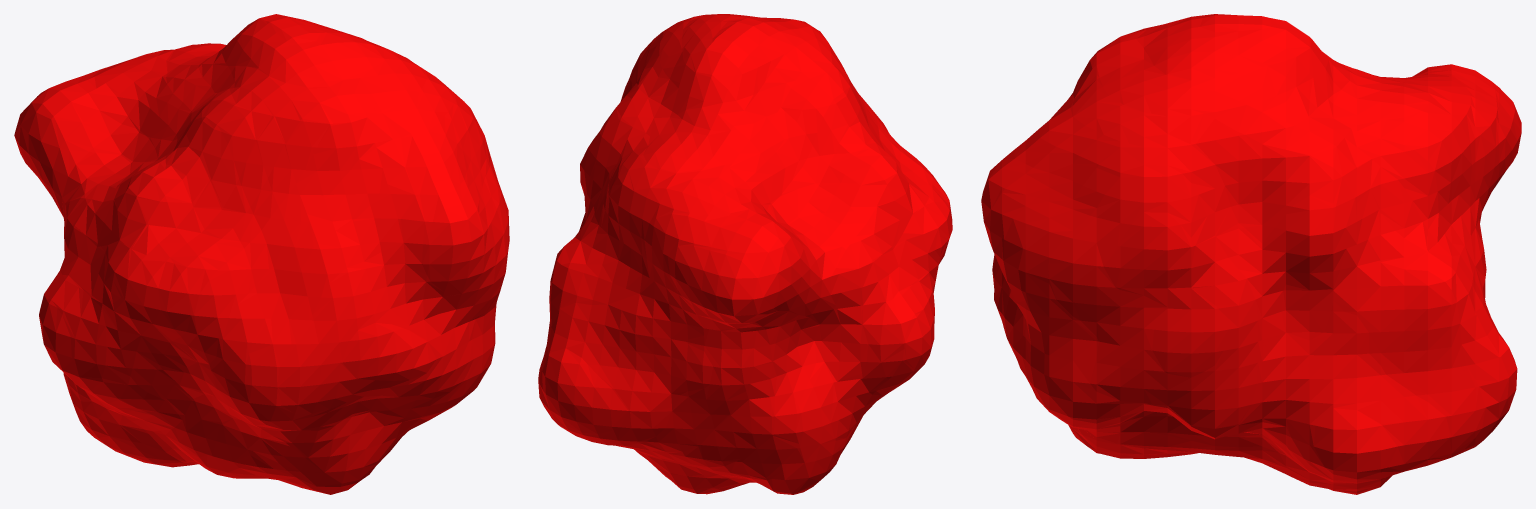
File: aroD_coarse.dae
The picture shows the model from 3 angles, left to right: view 1: azimuth 30°, elevation 25°; view 2: azimuth 150°, elevation 25°; view 3: azimuth 270°, elevation 25°; orthographic projection. The views are drawn at different scales.
Parts seen in each view (by area): view 1: aroD; view 2: aroD; view 3: aroD.
Boxes of the visible parts, x1,y1,x2,y2 form: aroD: [14, 14, 509, 494]; aroD: [538, 14, 952, 494]; aroD: [981, 14, 1521, 494].
Size of the model in its own units: 43.93 by 49.92 by 50.79.
